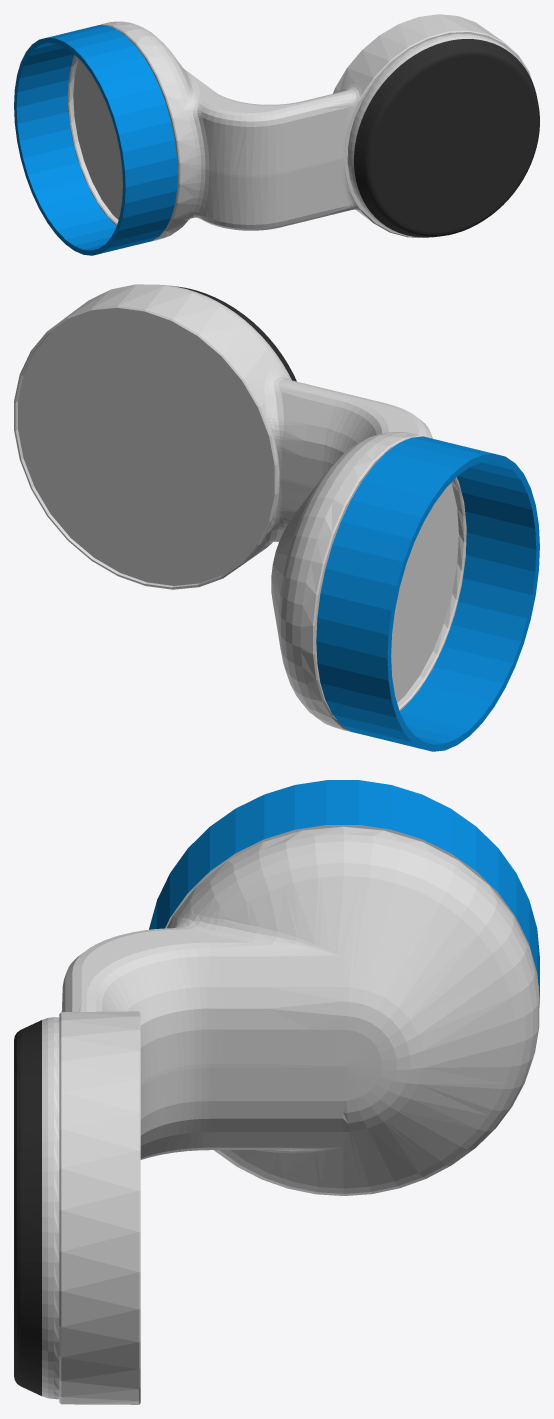
3 renders of one model, top to bottom at view 1: azimuth 30°, elevation 25°; view 2: azimuth 150°, elevation 25°; view 3: azimuth 270°, elevation 25°, orthographic. The views are drawn at different scales.
Parts seen in each view (by area): view 1: 10; view 2: 10; view 3: 10.
Part boxes in pixels (x1,y1,x2,y2): 10: [14, 14, 539, 255]; 10: [14, 284, 539, 751]; 10: [14, 780, 539, 1404].
Size of the model in its own units: 0.2085 by 0.104 by 0.139.
